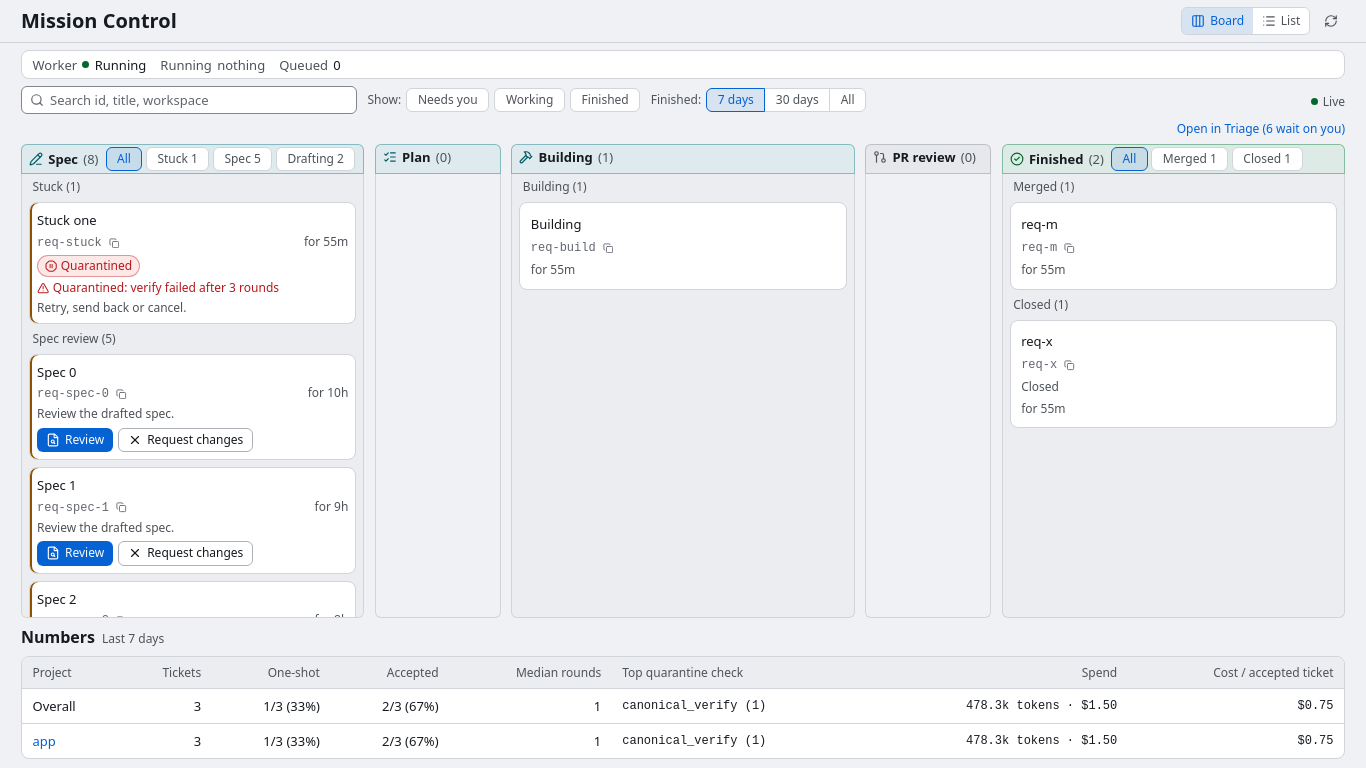
a long Spec column › each column has its own chips, pressed apart from the others
The image size is (1366, 768).
Check: the list item with test id "card-req-x" is shown, box [1010,320,1337,428]
Step 1. Click the button "Closed 1" → (1267, 159), box [1232,147,1303,171]
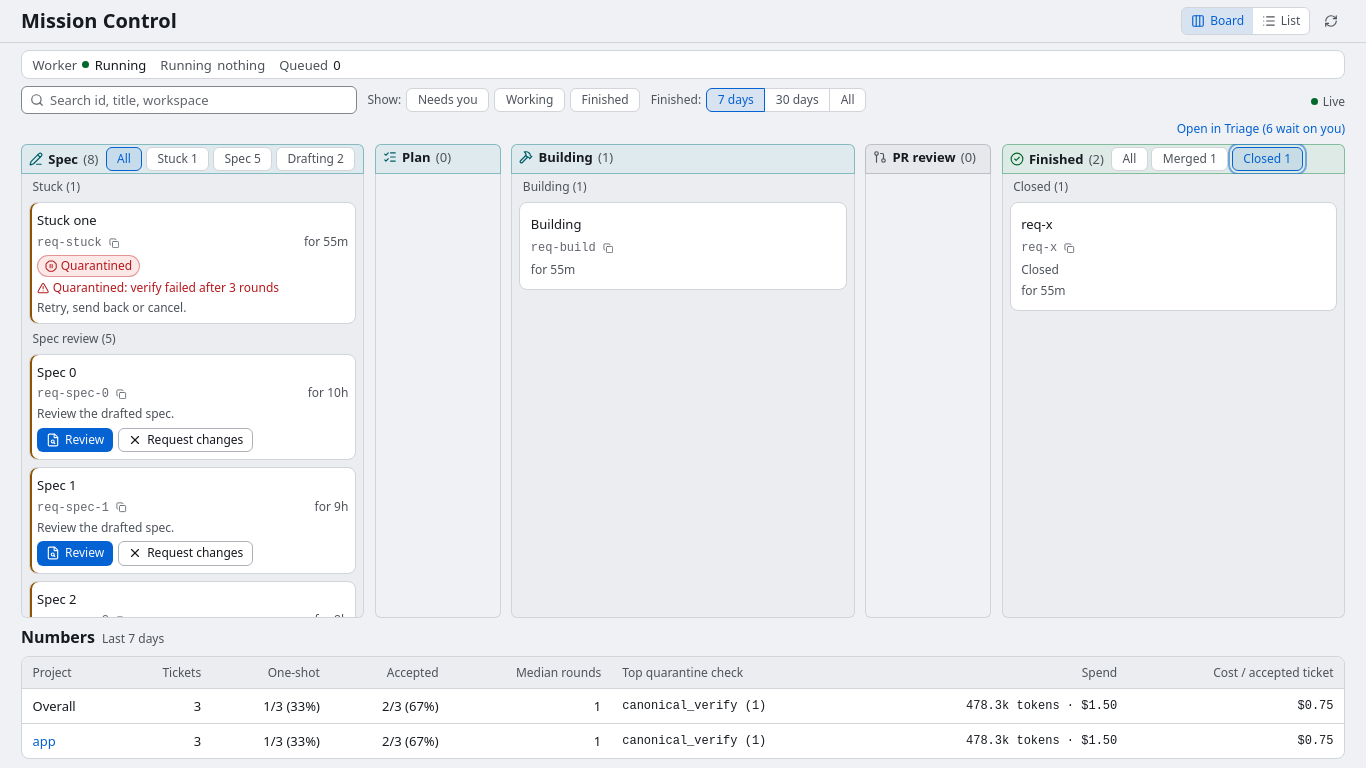
Check: the list item with test id "card-req-x" is shown, box [1010,202,1337,311]
Check: the list item with test id "card-req-m" is gone
